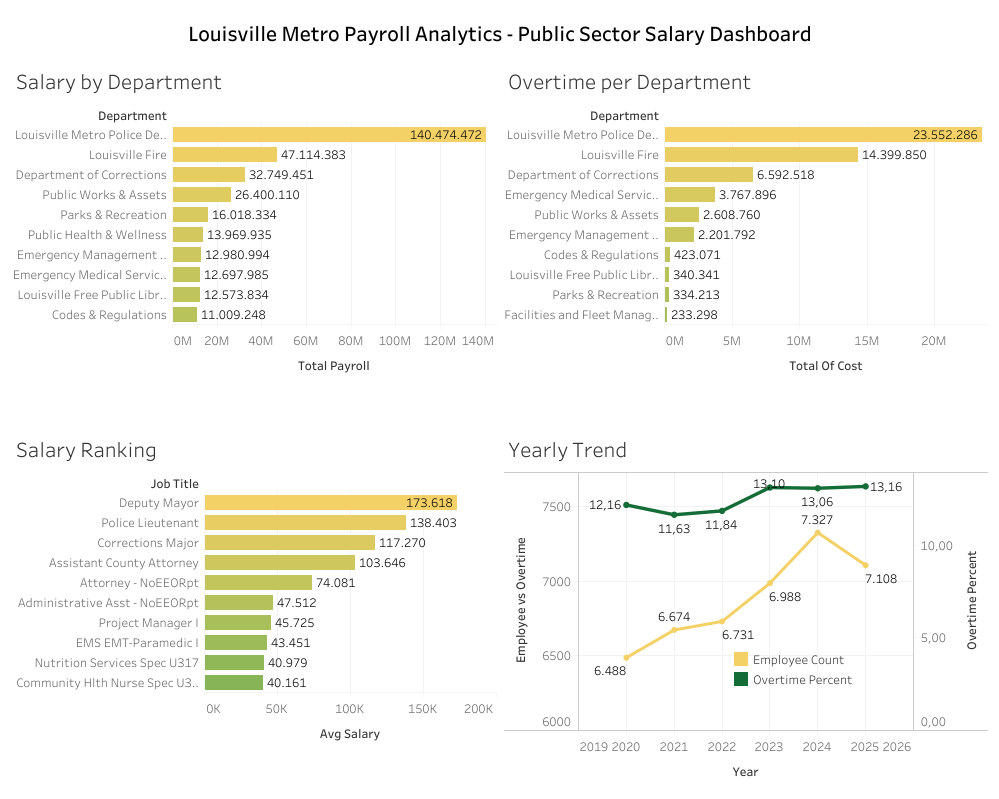

The dashboard page shown, as its layout file describes it:
{"tool":"tableau","page":{"name":"Dashboard 1","canvas":[1000,800],"ordinal":0},"visuals":[{"type":"text","box":[8,8,984,49]},{"type":"worksheet","title":"Salary by Department","mark":"Bar","rows":["department"],"cols":["total_payroll"],"box":[8,57,492,367.5]},{"type":"worksheet","title":"Overtime per Department","mark":"Automatic","rows":["department"],"cols":["total_ot_cost"],"box":[500,57,492,367.5]},{"type":"worksheet","title":"Salary Ranking","mark":"Automatic","rows":["job_title"],"cols":["salary_range"],"box":[8,424.5,492,367.5]},{"type":"worksheet","title":"Yearly Trend","mark":"Line","rows":["employee_count","overtime_percent"],"cols":["cal_year"],"box":[500,424.5,492,367.5]},{"type":"legend","title":"Yearly Trend","param":"[federated.161pcwr00505tv13eq8o814kne3b].[:Measure Names]","box":[731,649,152,59]}]}

Visuals, with their boxes in screenshot pixels (x1, y1, x2, y2), scaled from the page's 1000x800 canvas onto the 999x799 screenshot:
text: {"x1": 8, "y1": 8, "x2": 991, "y2": 57}
"Salary by Department" worksheet (Bar marks): {"x1": 8, "y1": 57, "x2": 500, "y2": 424}
"Overtime per Department" worksheet: {"x1": 500, "y1": 57, "x2": 991, "y2": 424}
"Salary Ranking" worksheet: {"x1": 8, "y1": 424, "x2": 500, "y2": 791}
"Yearly Trend" worksheet (Line marks): {"x1": 500, "y1": 424, "x2": 991, "y2": 791}
"Yearly Trend" legend: {"x1": 730, "y1": 648, "x2": 882, "y2": 707}
